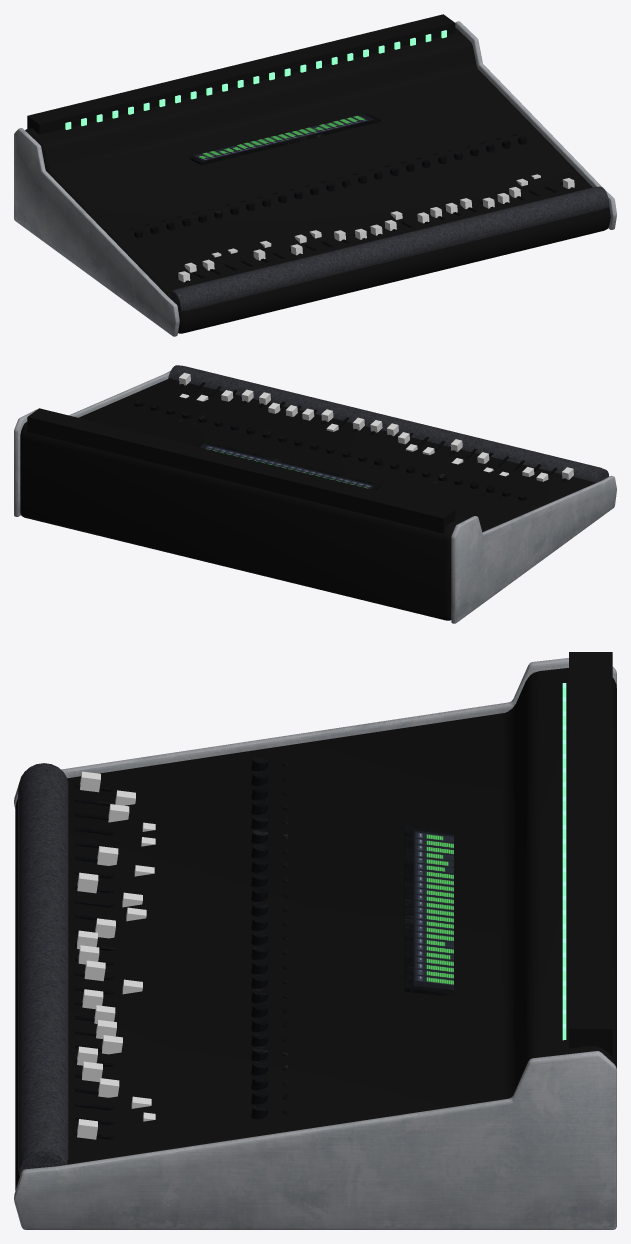
File: audio_console_yamanaka_cl6.gltf
3 renders of one model, top to bottom at view 1: azimuth 30°, elevation 25°; view 2: azimuth 150°, elevation 25°; view 3: azimuth 270°, elevation 25°, orthographic. The views are drawn at different scales.
Visible parts, largest first — view 1: audio_console_yamanaka_cl6; view 2: audio_console_yamanaka_cl6; view 3: audio_console_yamanaka_cl6.
Boxes of the visible parts, left/top/right/bottom form: audio_console_yamanaka_cl6: left=14, top=14, right=616, bottom=336; audio_console_yamanaka_cl6: left=14, top=365, right=616, bottom=623; audio_console_yamanaka_cl6: left=14, top=652, right=616, bottom=1229.
Bounding box in the file's own units: 1.08 × 0.24 × 0.6894.
8 materials, 5 textured.
